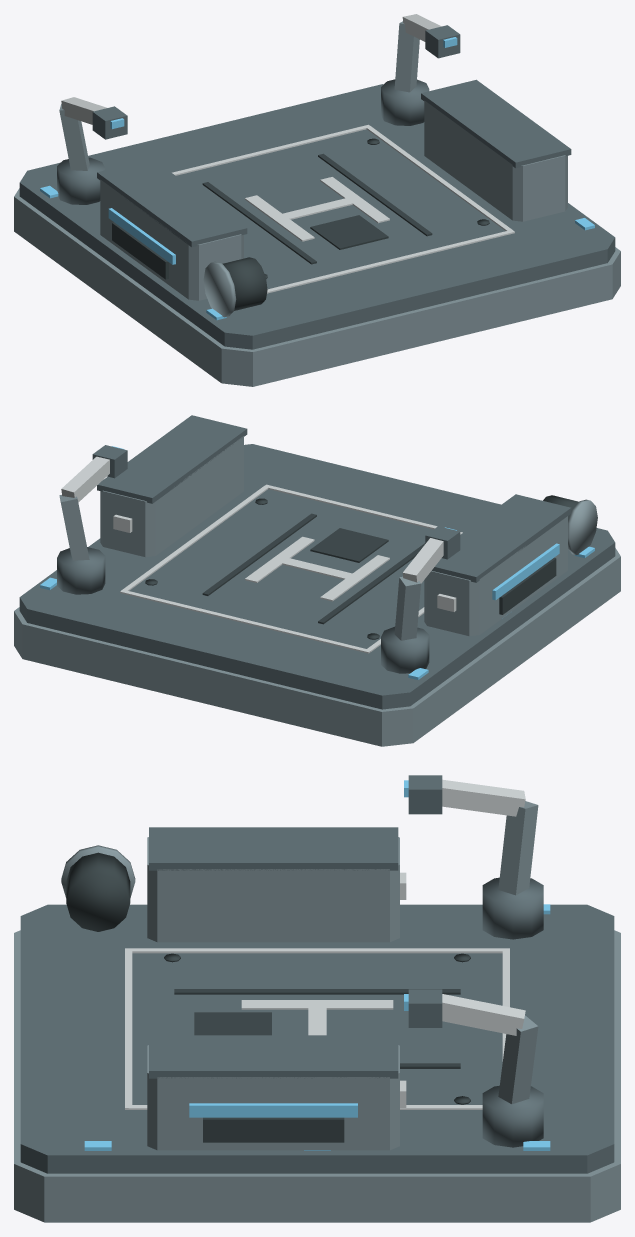
File: MOD_HeliDeck_U2.fbx
3 renders of one model, top to bottom at view 1: azimuth 30°, elevation 25°; view 2: azimuth 150°, elevation 25°; view 3: azimuth 270°, elevation 25°, orthographic. The views are drawn at different scales.
Parts seen in each view (by area): view 1: LandingSurface, BlockBase, ServicePod.001, ServicePodLid, ServicePodLid.001, ServicePod, ServiceArmBase, ServiceArmBase.001, FuelHoseReel, CaptureGrid, ReelEnd, ServiceArmLower.001 (+15 smaller); view 2: LandingSurface, BlockBase, ServicePod.001, ServicePodLid.001, ServicePod, ServicePodLid, ServiceArmBase.001, ServiceArmBase, CaptureGrid, ServiceArmLower, ReelEnd, PadBoundary.003 (+14 smaller); view 3: LandingSurface, BlockBase, ServicePod, ServicePod.001, ServicePodLid, ServicePodLid.001, FuelHoseReel, ServiceBayVent.001, ServiceArmBase, ServiceArmBase.001, ServiceArmLower, AviationBlueStripe.001 (+12 smaller).
Part boxes in pixels (x1,y1,x2,y2): LandingSurface: [19, 84, 615, 349]; BlockBase: [14, 188, 620, 386]; ServicePod.001: [424, 100, 567, 221]; ServicePodLid: [97, 159, 247, 247]; ServicePodLid.001: [421, 79, 571, 168]; ServicePod: [100, 179, 243, 300]; ServiceArmBase: [57, 157, 105, 204]; ServiceArmBase.001: [381, 79, 429, 125]; FuelHoseReel: [222, 257, 267, 310]; CaptureGrid: [310, 215, 388, 249]; ReelEnd: [203, 261, 236, 317]; ServiceArmLower.001: [394, 21, 419, 92]; LandingSurface: [19, 444, 615, 709]; BlockBase: [14, 548, 620, 746]; ServicePod.001: [100, 436, 243, 557]; ServicePodLid.001: [97, 415, 247, 503]; ServicePod: [424, 516, 567, 636]; ServicePodLid: [432, 494, 571, 582]; ServiceArmBase.001: [57, 547, 105, 594]; ServiceArmBase: [381, 626, 429, 673]; CaptureGrid: [310, 528, 388, 562]; ServiceArmLower: [394, 576, 420, 640]; ReelEnd: [568, 499, 597, 554]; PadBoundary.003: [120, 590, 370, 653]; LandingSurface: [20, 904, 614, 1173]; BlockBase: [14, 930, 620, 1222]; ServicePod: [147, 837, 399, 942]; ServicePod.001: [147, 1045, 399, 1150]; ServicePodLid: [149, 827, 398, 870]; ServicePodLid.001: [149, 1035, 398, 1078]; FuelHoseReel: [66, 852, 130, 931]; ServiceBayVent.001: [203, 1117, 344, 1142]; ServiceArmBase: [482, 877, 543, 939]; ServiceArmBase.001: [482, 1085, 543, 1147]; ServiceArmLower: [498, 801, 538, 895]; AviationBlueStripe.001: [189, 1103, 357, 1117].
Bounding box in the file's own units: 180 × 67 × 180.
